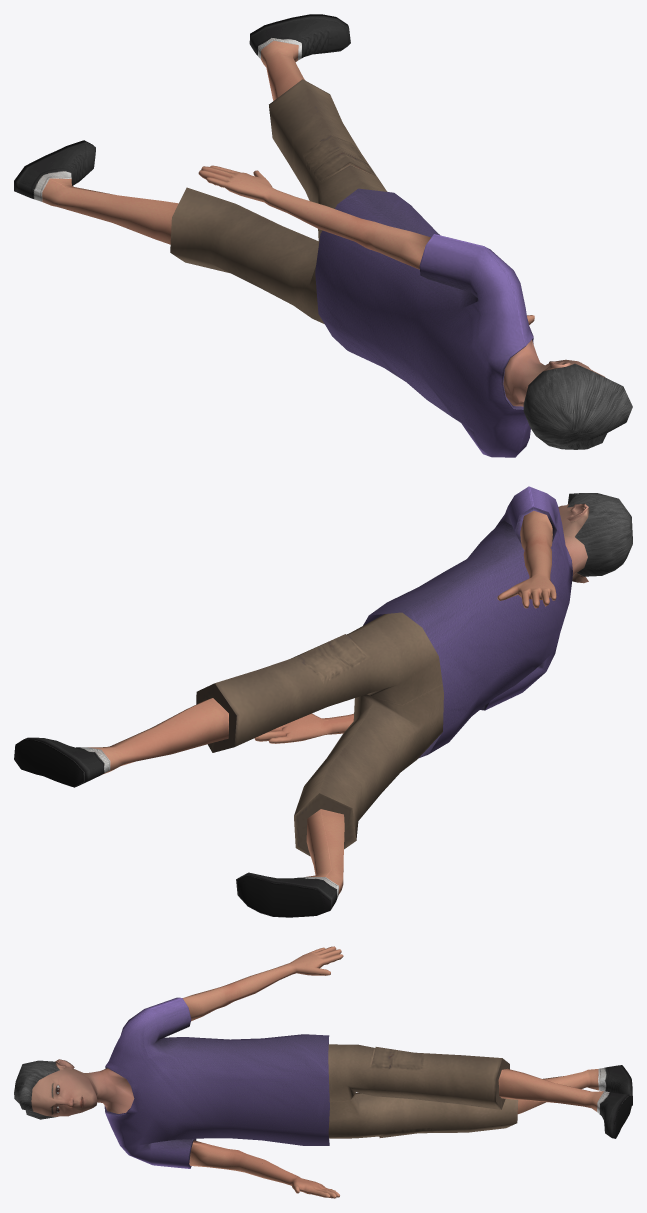
Rendered from walk.obj.
3 renders of one model, top to bottom at view 1: azimuth 30°, elevation 25°; view 2: azimuth 150°, elevation 25°; view 3: azimuth 270°, elevation 25°, orthographic. The views are drawn at different scales.
Bounding box in the file's own units: 0.7949 × 0.501 × 1.74.
Materials: 1 (1 with a texture image).
